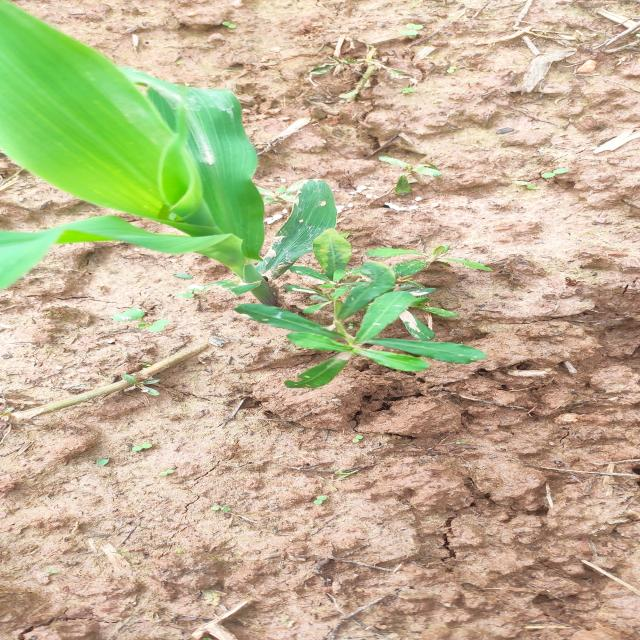maize: (0, 0, 333, 298)
weed: (225, 302, 488, 382), (333, 143, 476, 203), (314, 40, 441, 100), (83, 294, 193, 345)
